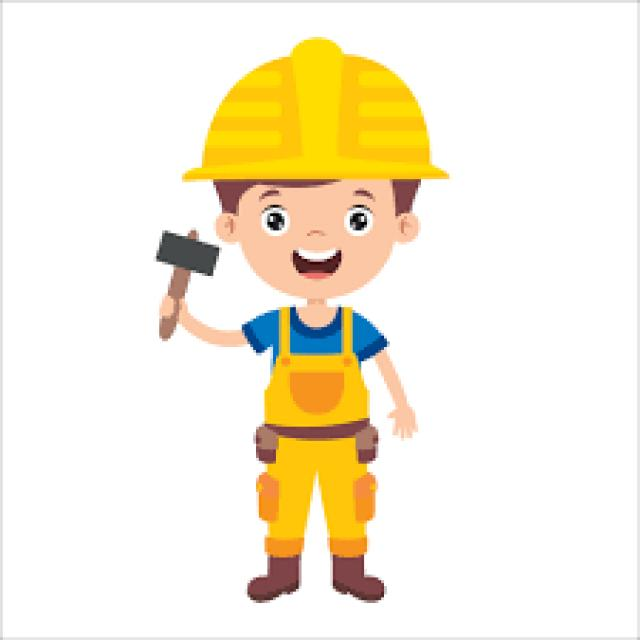Reflective-Jacket: (253, 304, 378, 444)
Safety-Helmet: (185, 42, 449, 190)
